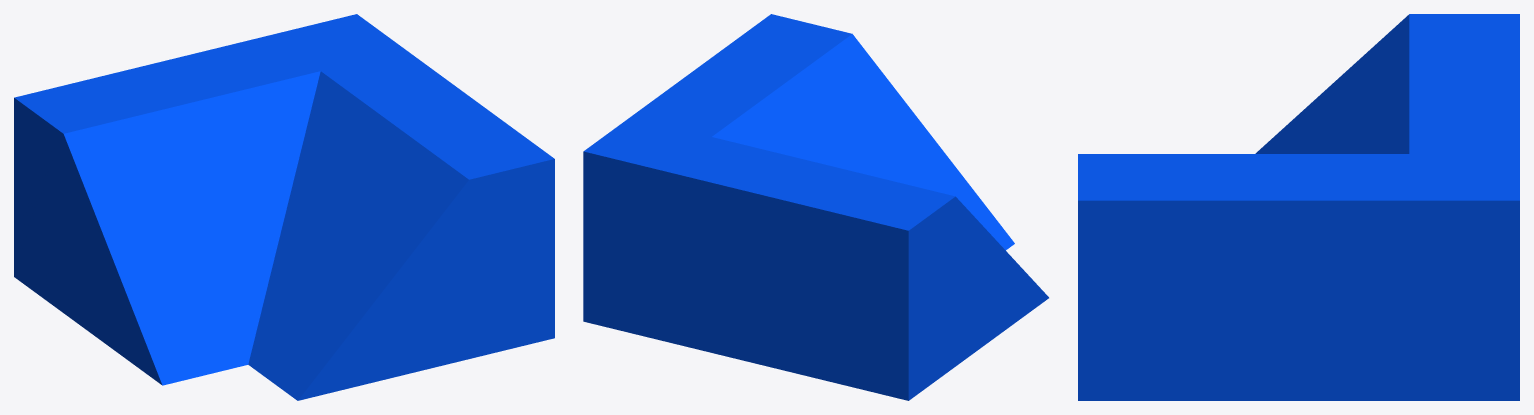
File: COL_Floor-Stairs-Layered-Narrow-Corner-Concave.FBX
3 renders of one model, left to right at view 1: azimuth 30°, elevation 25°; view 2: azimuth 150°, elevation 25°; view 3: azimuth 270°, elevation 25°, orthographic. The views are drawn at different scales.
Visible parts, largest first — view 1: COL_Floor-Stairs-Layered-Narrow-Corner-Concave; view 2: COL_Floor-Stairs-Layered-Narrow-Corner-Concave; view 3: COL_Floor-Stairs-Layered-Narrow-Corner-Concave.
Boxes of the visible parts, x1=… form: COL_Floor-Stairs-Layered-Narrow-Corner-Concave: x1=14, y1=14, x2=554, y2=400; COL_Floor-Stairs-Layered-Narrow-Corner-Concave: x1=583, y1=14, x2=1048, y2=400; COL_Floor-Stairs-Layered-Narrow-Corner-Concave: x1=1078, y1=14, x2=1519, y2=400.
Bounding box in the file's own units: 20 × 10 × 20.
